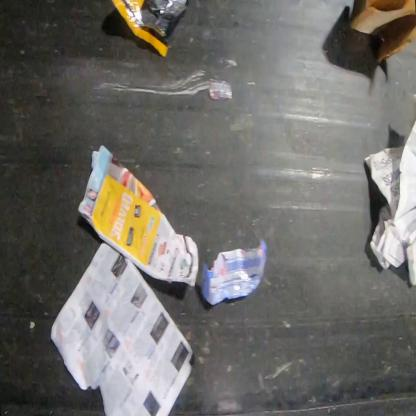cardboard: (76, 142, 200, 289), (349, 0, 415, 67)
soft_plastic: (195, 235, 270, 306), (111, 0, 187, 58)
